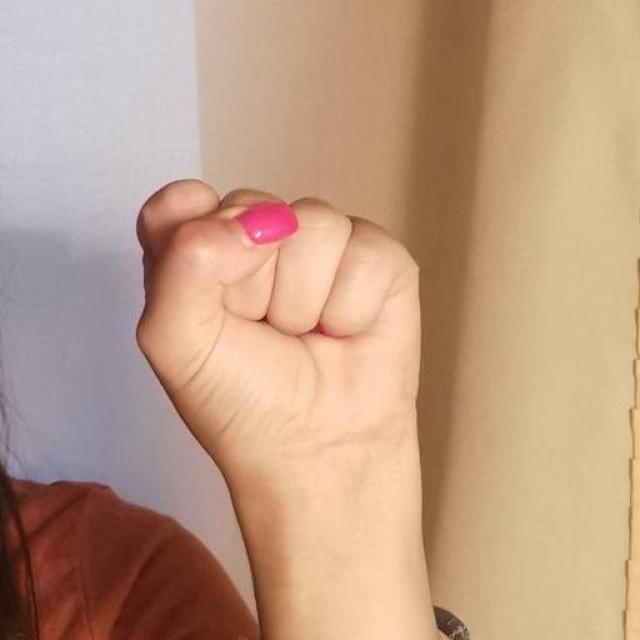hand: (132, 177, 447, 468)
